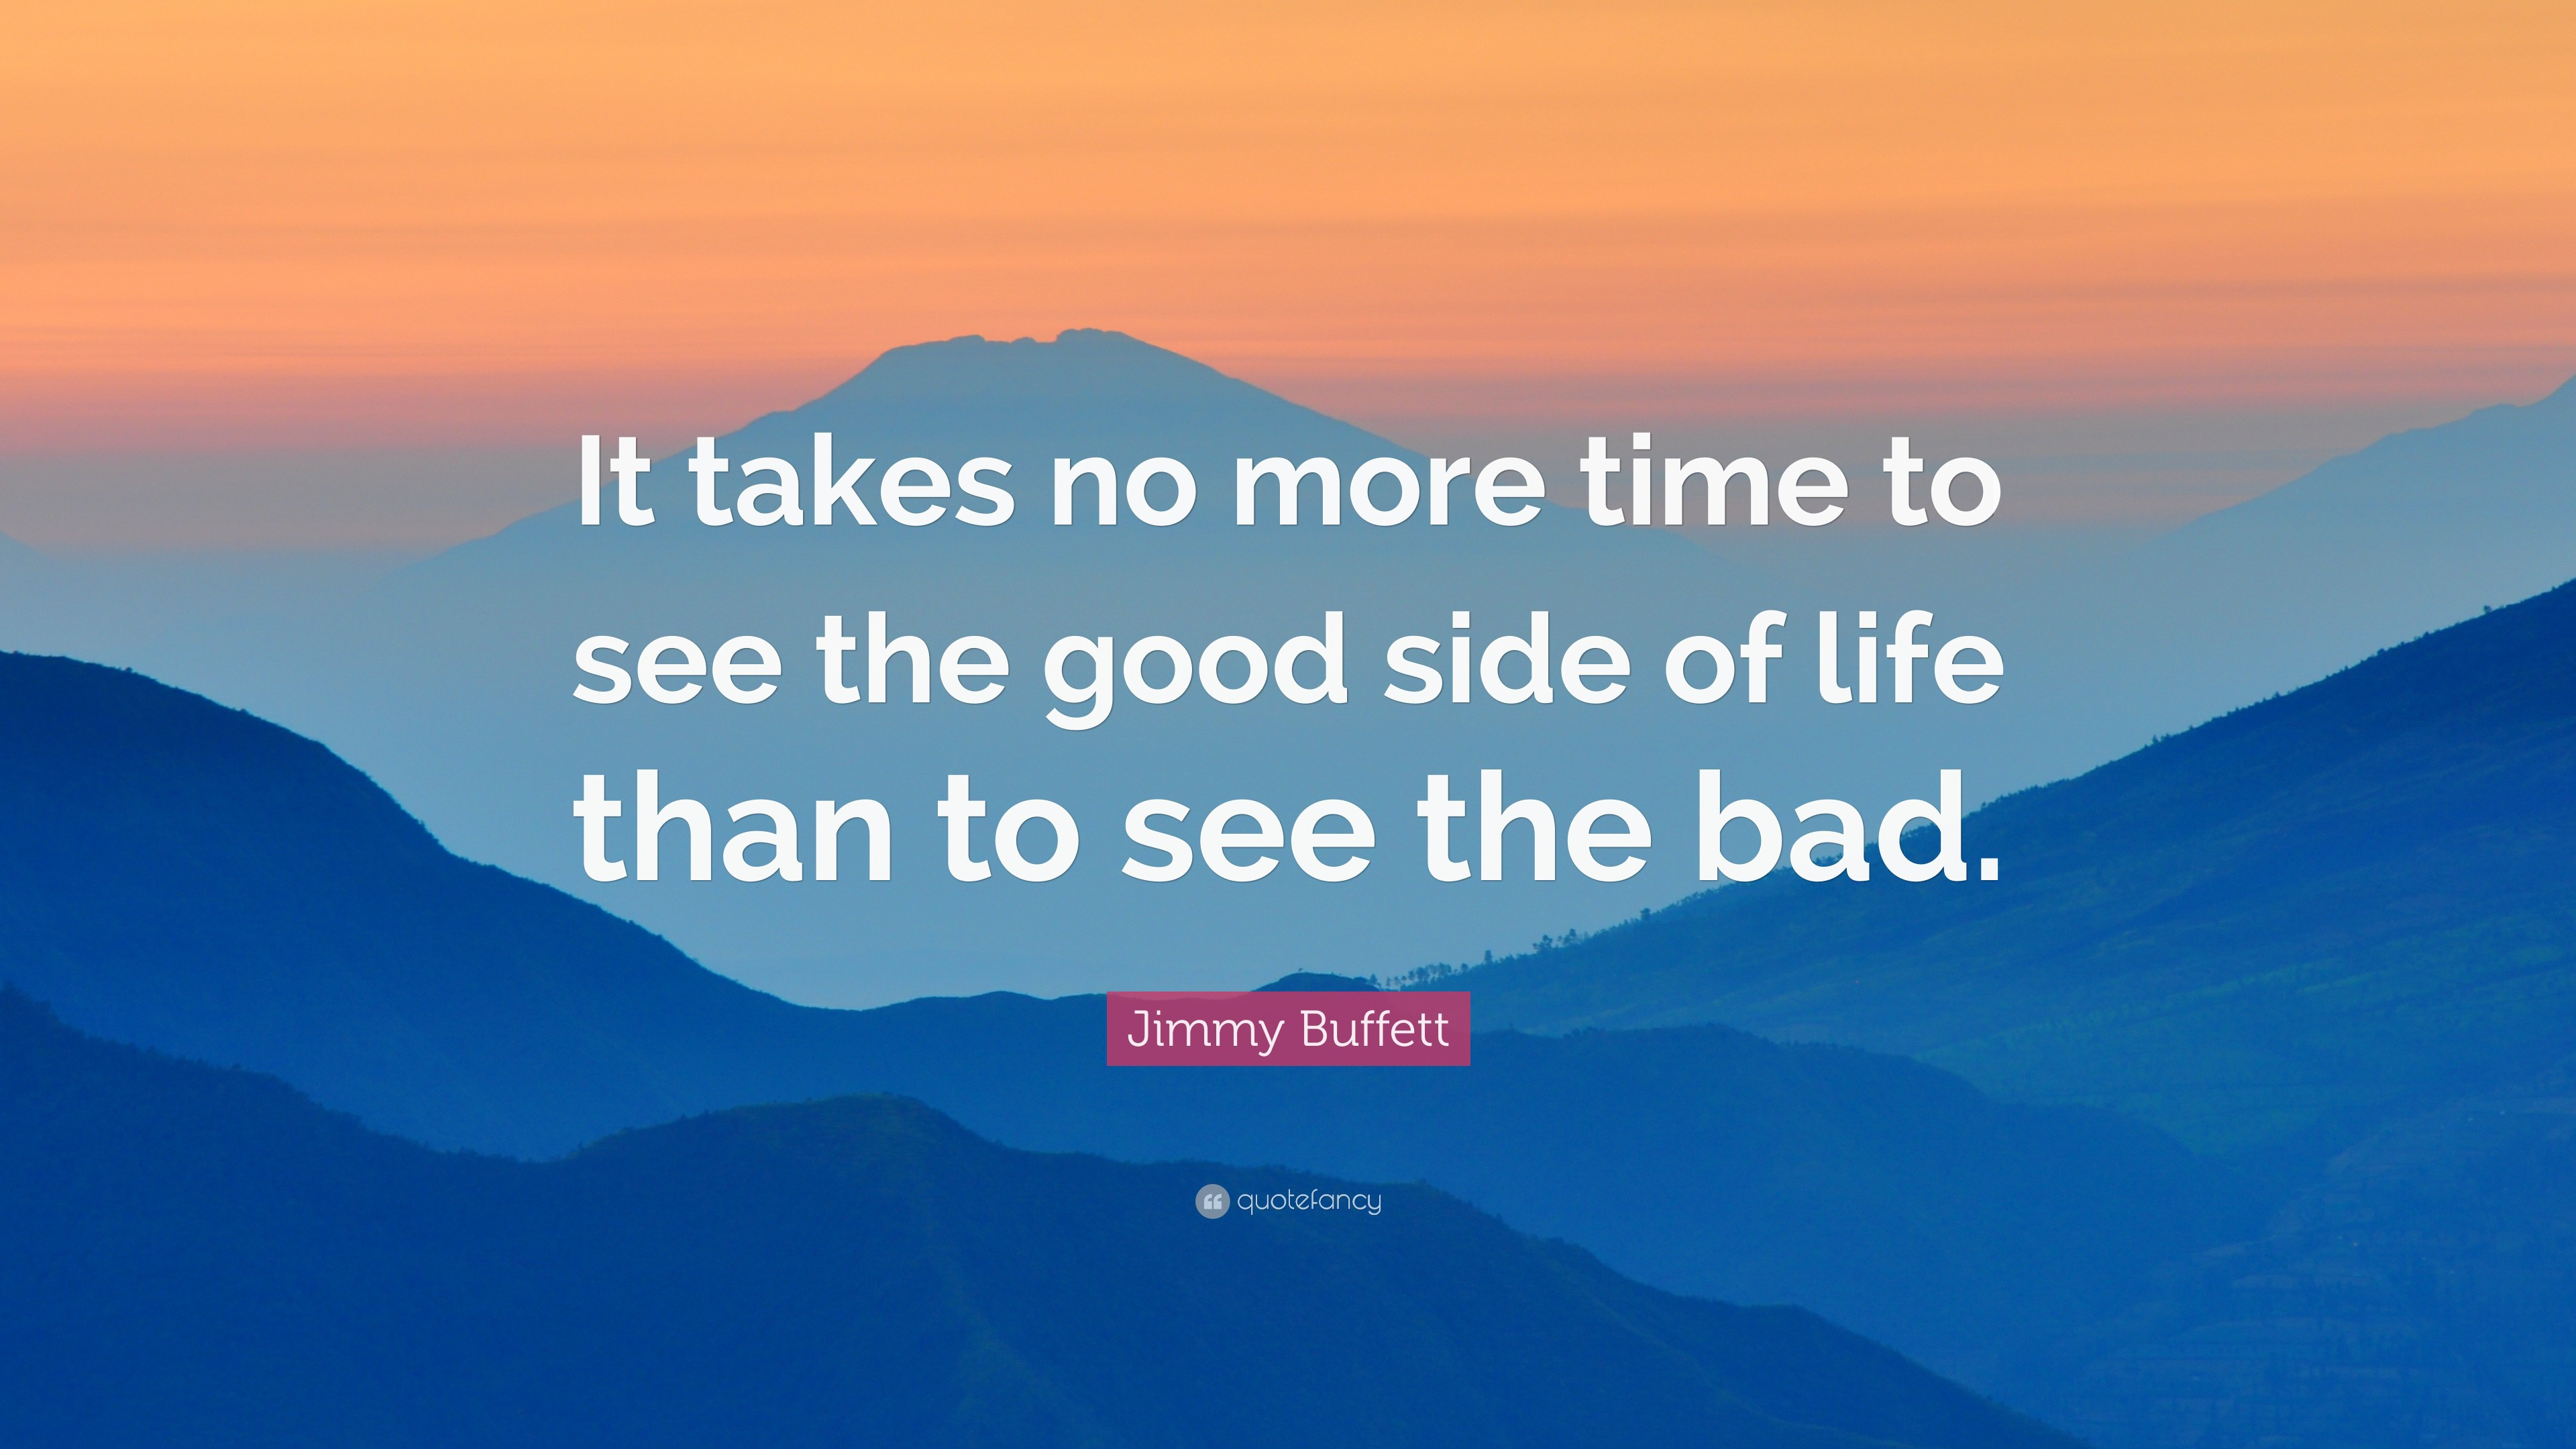latin: (571, 428, 2019, 886), (1118, 1001, 1456, 1060), (1233, 1187, 1392, 1223)
